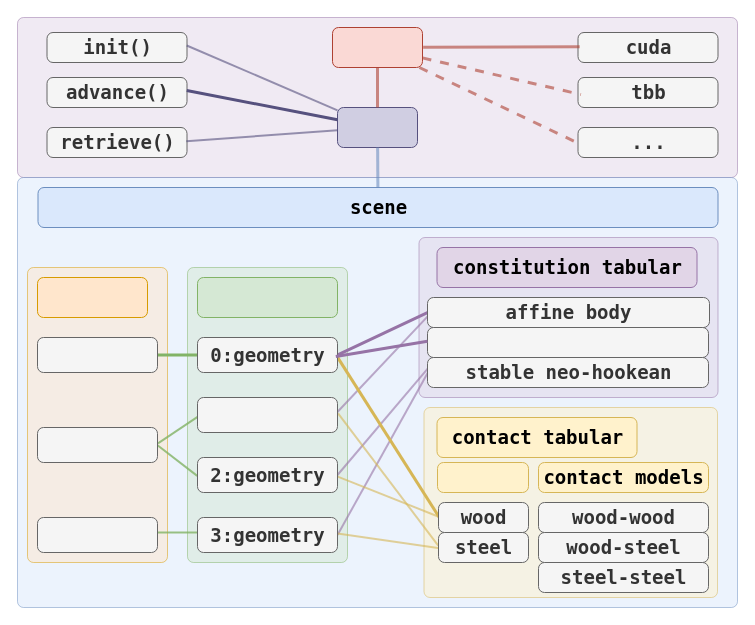
Some shapes in this 755 by 625 pixel diagram are drawn without their labels. Each missing label, with the centre of its shape:
0:object: point (97, 354)
1:geometry: point (267, 414)
1:object: point (97, 444)
2:object: point (97, 534)
element: point (482, 477)
Engine: point (377, 47)
geometries: point (267, 297)
objects: point (92, 297)
transform constraint: point (567, 342)
World: point (377, 127)
